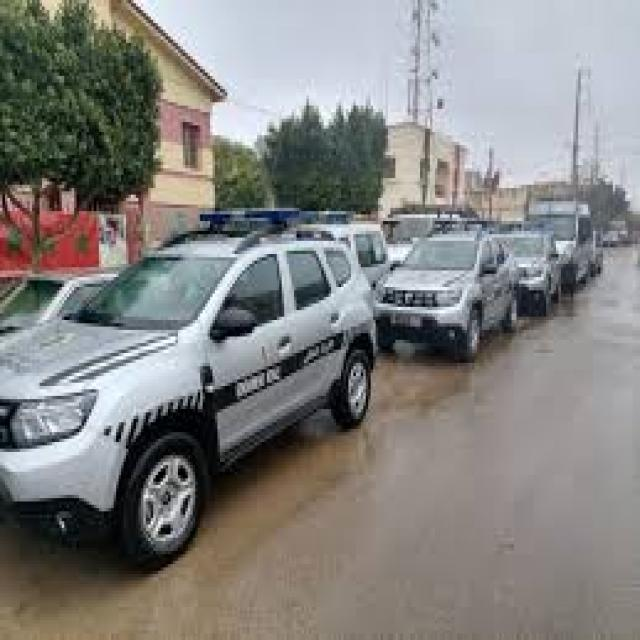gendarme car: (0, 205, 380, 576), (370, 214, 515, 356)
